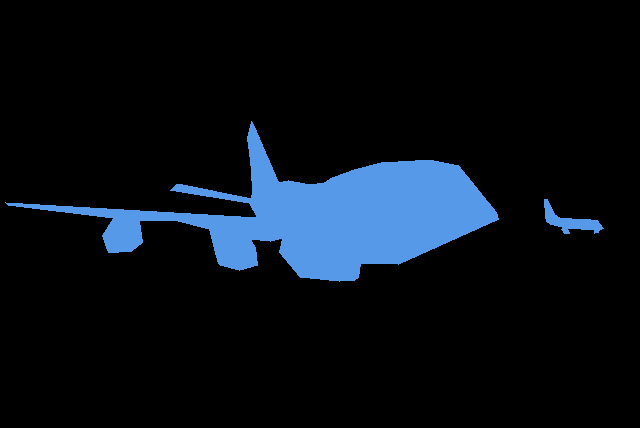Airplane: (5, 121, 498, 282), (544, 199, 604, 234)
